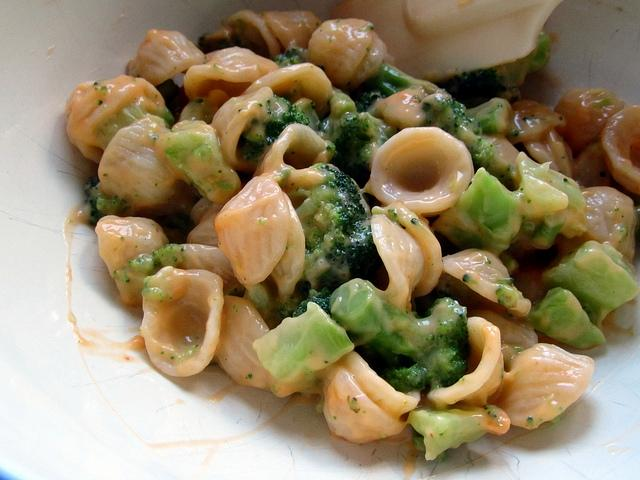broccoli: (328, 278, 472, 394), (360, 61, 494, 169), (290, 162, 373, 296), (252, 301, 354, 385), (542, 240, 638, 328), (434, 168, 526, 257), (158, 120, 242, 205), (406, 404, 511, 460), (328, 111, 396, 189), (527, 287, 607, 348), (434, 68, 508, 110), (96, 102, 148, 151), (264, 95, 310, 145), (292, 286, 333, 318), (272, 46, 308, 68)
